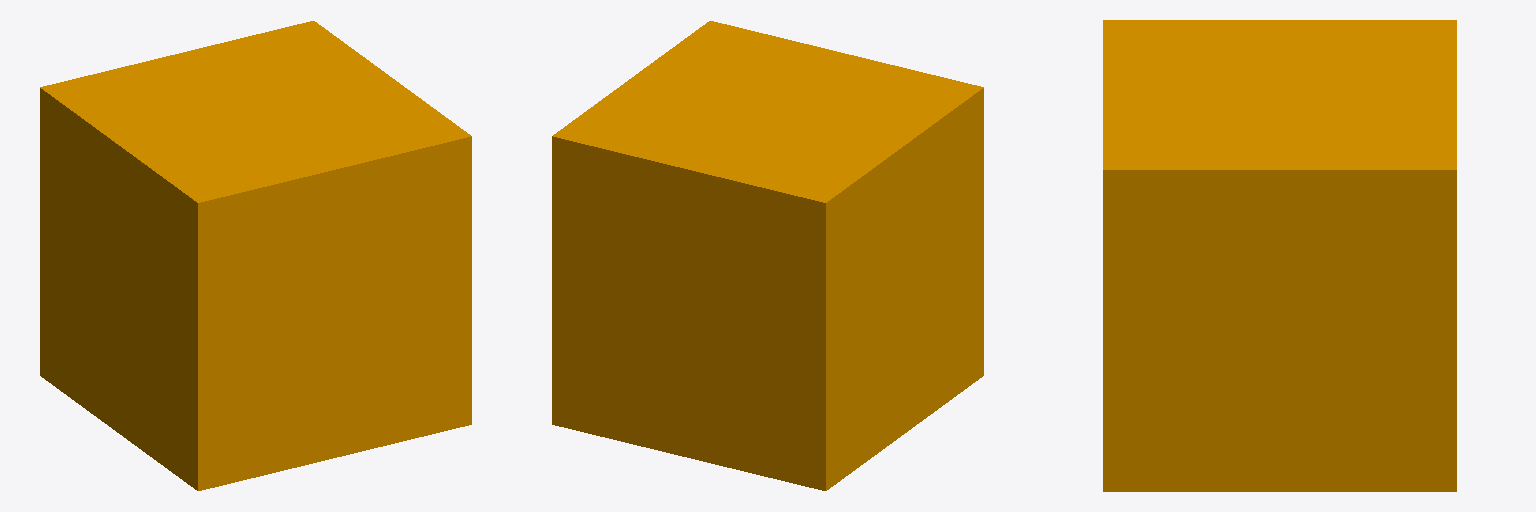
The robot description file, URDF, robot "cube.urdf":
<?xml version="1.0" encoding="utf-8"?>
<robot name="cube.urdf">
  <link name="baseLink">
    <contact>
      <lateral_friction value="0.5"/>
      <rolling_friction value="0.001"/>
      <spinning_friction value="0.001"/>
    </contact>
    <inertial>
      <origin rpy="0 0 0" xyz="0 0 0"/>
       <mass value="0.1"/>
       <inertia ixx="1" ixy="0" ixz="0" iyy="1" iyz="0" izz="1"/>
    </inertial>
    <visual>
      <origin rpy="0 0 0" xyz="0 0 0"/>
      <geometry>
         <mesh filename="cube.obj" scale="0.995 0.995 1"/>
      </geometry>
    </visual>
    <collision>
      <origin rpy="0 0 0" xyz="0 0 0"/>
      <geometry>
	 	    <mesh filename="cube.obj"/>
      </geometry>
    </collision>
  </link>
</robot>

--- What the picture shows (computed from the rendered views, not written in the file) ---
3 views of the same robot in one strip: view 1: azimuth 30°, elevation 25°; view 2: azimuth 150°, elevation 25°; view 3: azimuth 270°, elevation 25° (orthographic).
Model cube.urdf with 1 links and 0 joints (none), rooted at baseLink, posed every joint at zero.
Visible links, largest first — view 1: baseLink; view 2: baseLink; view 3: baseLink.
Link boxes in pixels (x1,y1,x2,y2): baseLink: (40, 21, 471, 490); baseLink: (552, 21, 983, 490); baseLink: (1103, 20, 1456, 491).
Size in the robot's own frame: 0.0498 by 0.0498 by 0.05 metres.
1 mesh visuals loaded from 1 distinct referenced files (1 OBJ).
